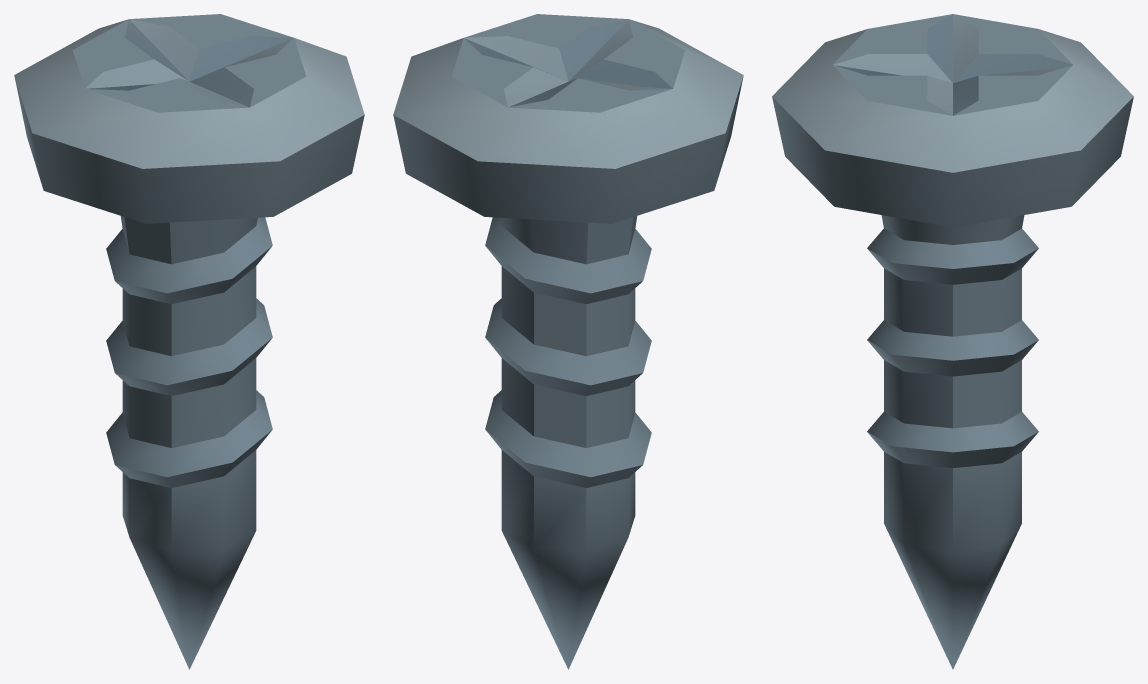
The model's file is screw_b.glb.
3 renders of one model, left to right at view 1: azimuth 30°, elevation 25°; view 2: azimuth 150°, elevation 25°; view 3: azimuth 270°, elevation 25°, orthographic.
Parts seen in each view (by area): view 1: screw_B; view 2: screw_B; view 3: screw_B.
Part boxes in pixels (x1,y1,x2,y2): screw_B: (14,14,364,669); screw_B: (393,14,743,669); screw_B: (772,14,1133,669).
Bounding box in the file's own units: 0.0953 × 0.1759 × 0.0953.
1 material, 1 textured.
